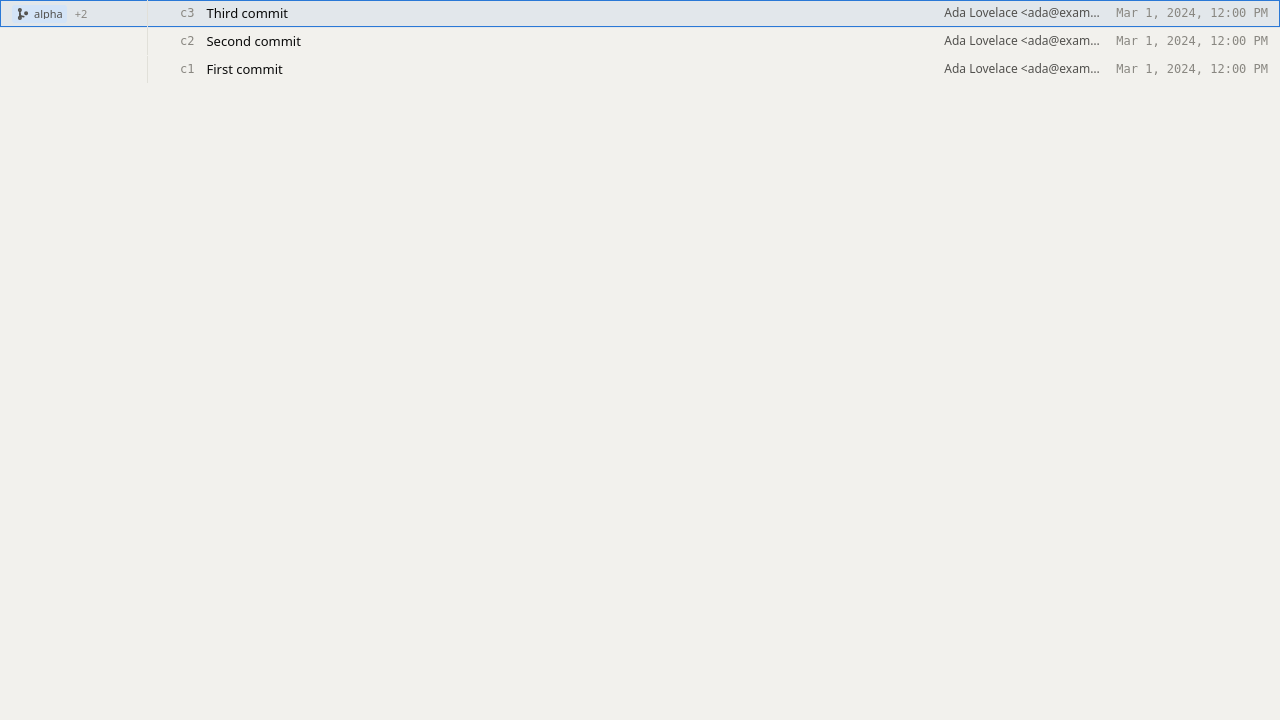
CommitGraph — ref-chip collapse popover (specs/ref-chip-gutter-legibility.md FR-410/411) › AC5: an outside click closes the popover
Click the button named "more refs on this commit".
click(81, 14)  # box [71,4,91,22]
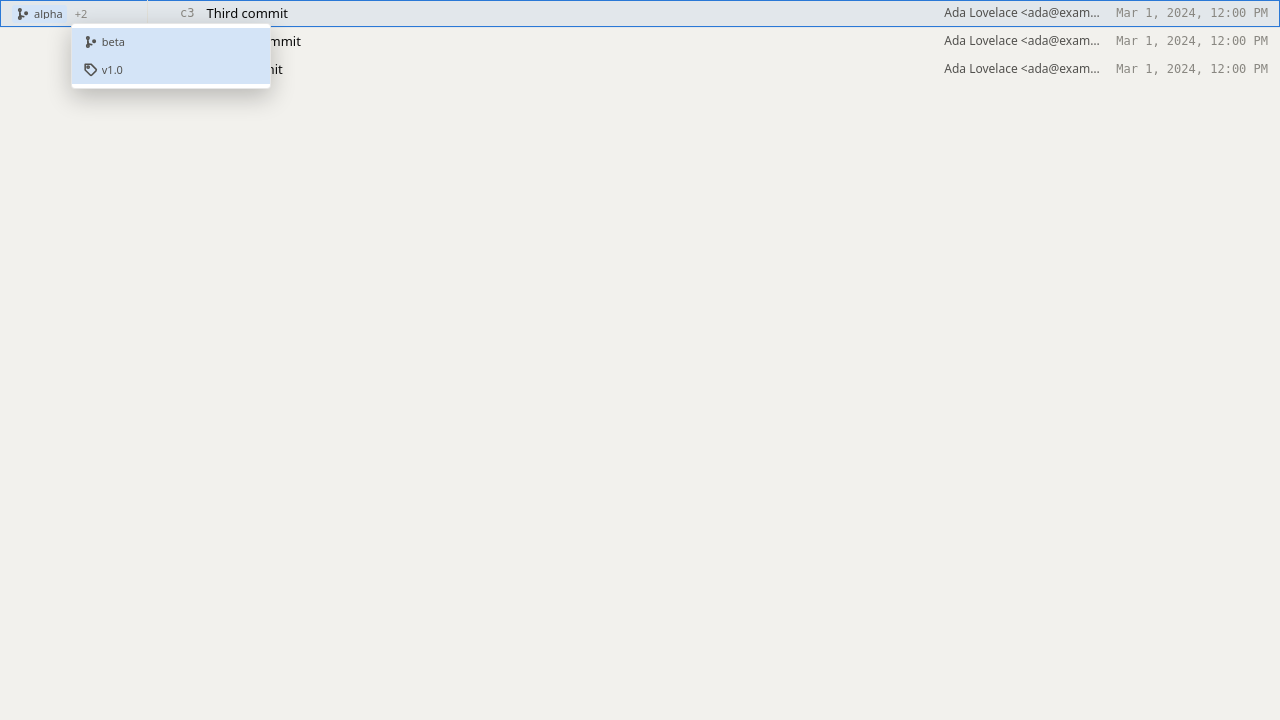
Check: the menu is shown, box [71,22,271,88]
Click the element that starts with "alpha".
click(640, 360)  # box [0,0,1279,719]
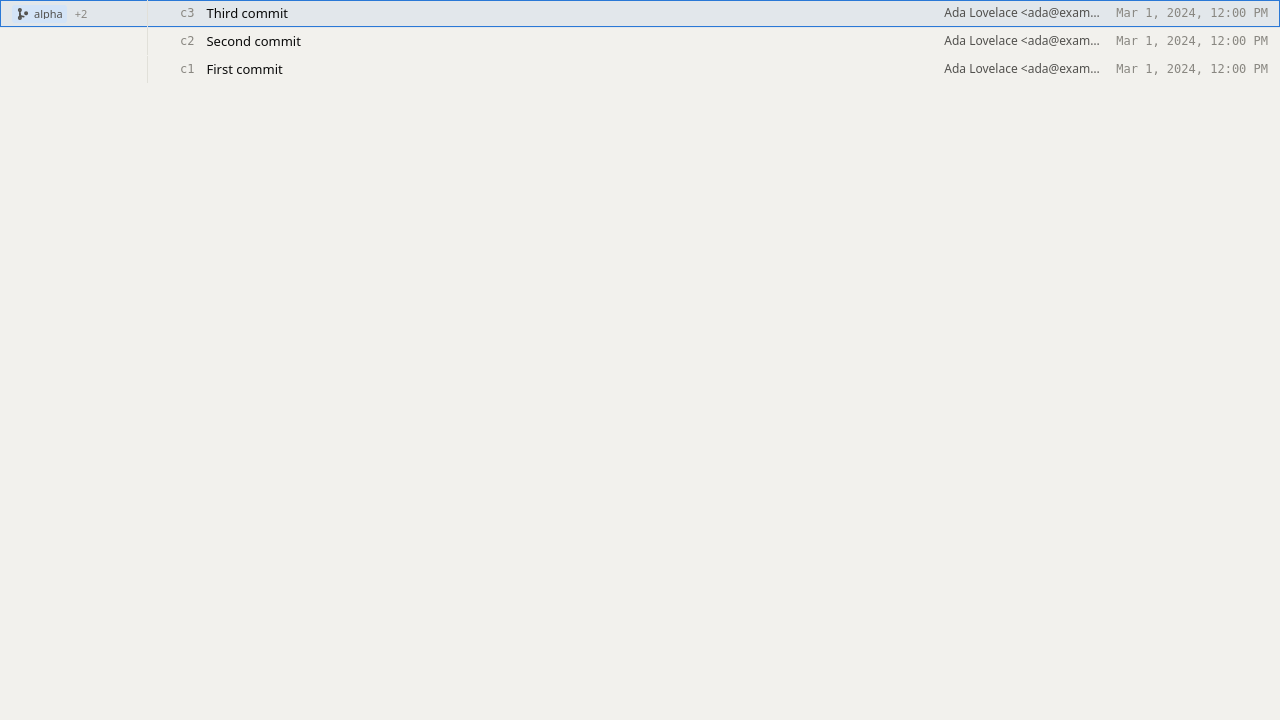
Check: the menu is gone
